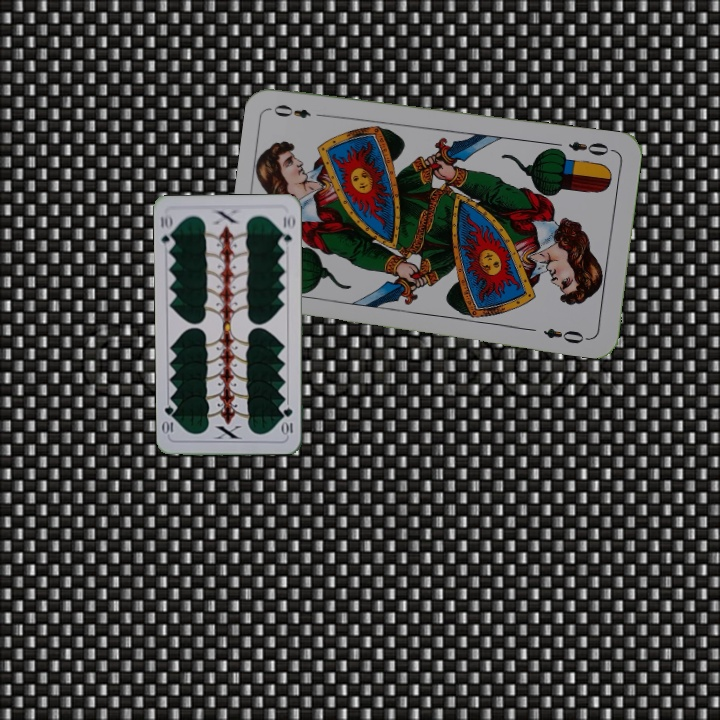EO: (564, 137, 616, 158)
G10: (156, 210, 176, 251), (280, 404, 295, 438)
